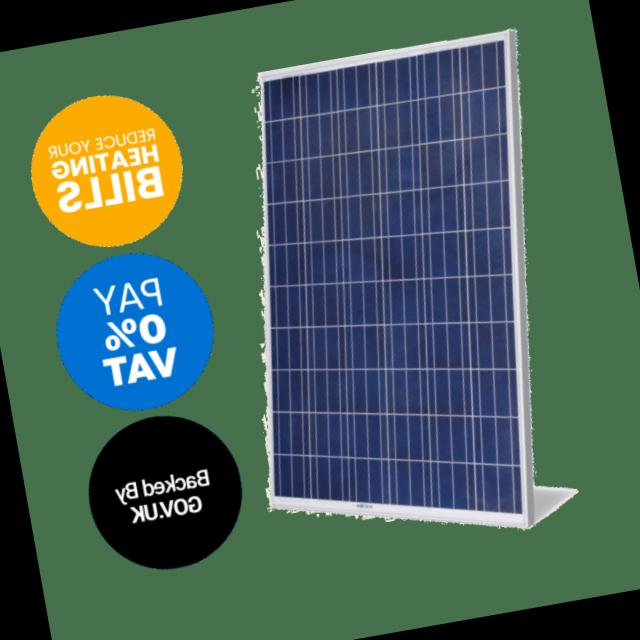no faulty: (259, 39, 523, 514)
